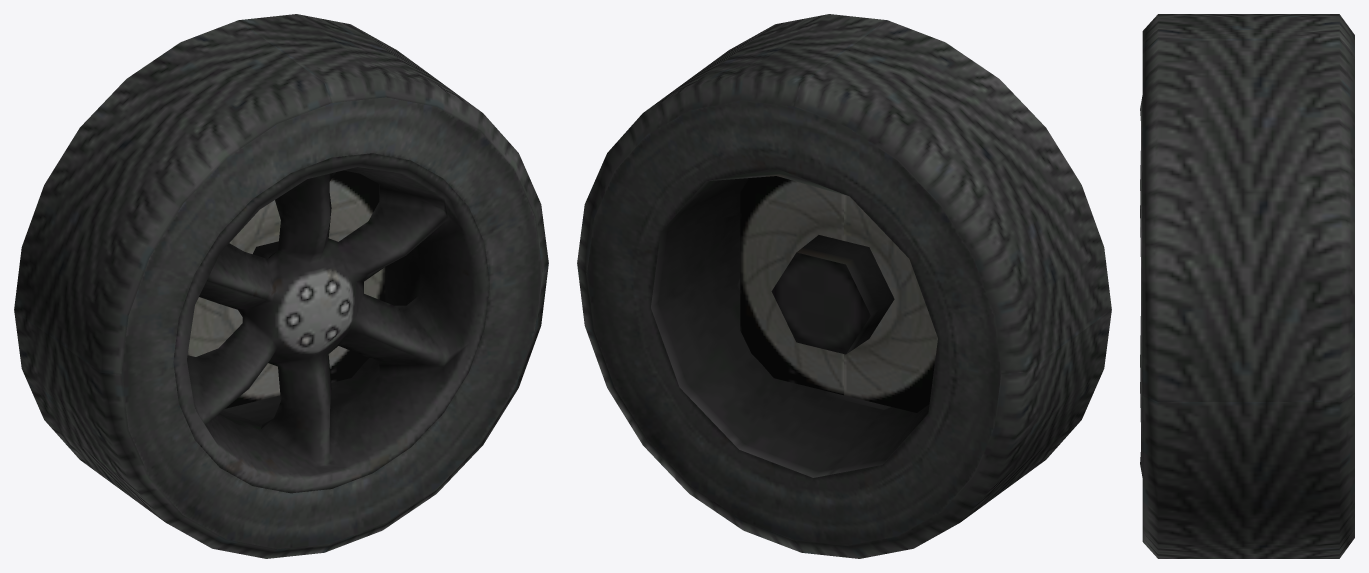
Rendered from V_A_ClassicMuscle_Wheels_5_SkeletalMesh3_SkeletalMesh_16.psk.glb.
3 renders of one model, left to right at view 1: azimuth 30°, elevation 25°; view 2: azimuth 150°, elevation 25°; view 3: azimuth 270°, elevation 25°, orthographic. The views are drawn at different scales.
Size of the model in its own units: 67.92 by 67.92 by 26.68.
1 material, 1 textured.
